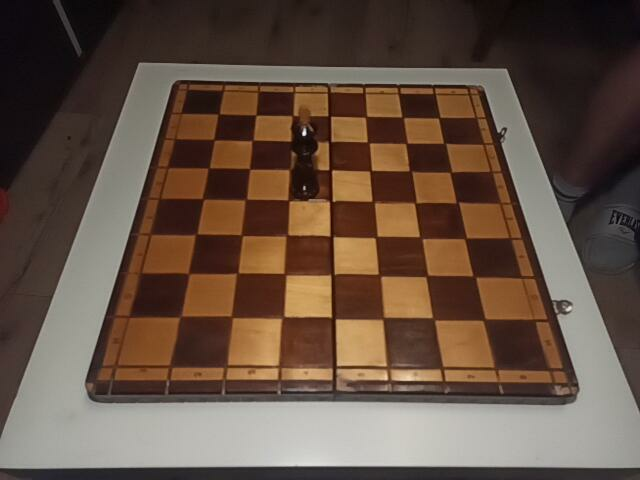B-King: (291, 106, 319, 199)
